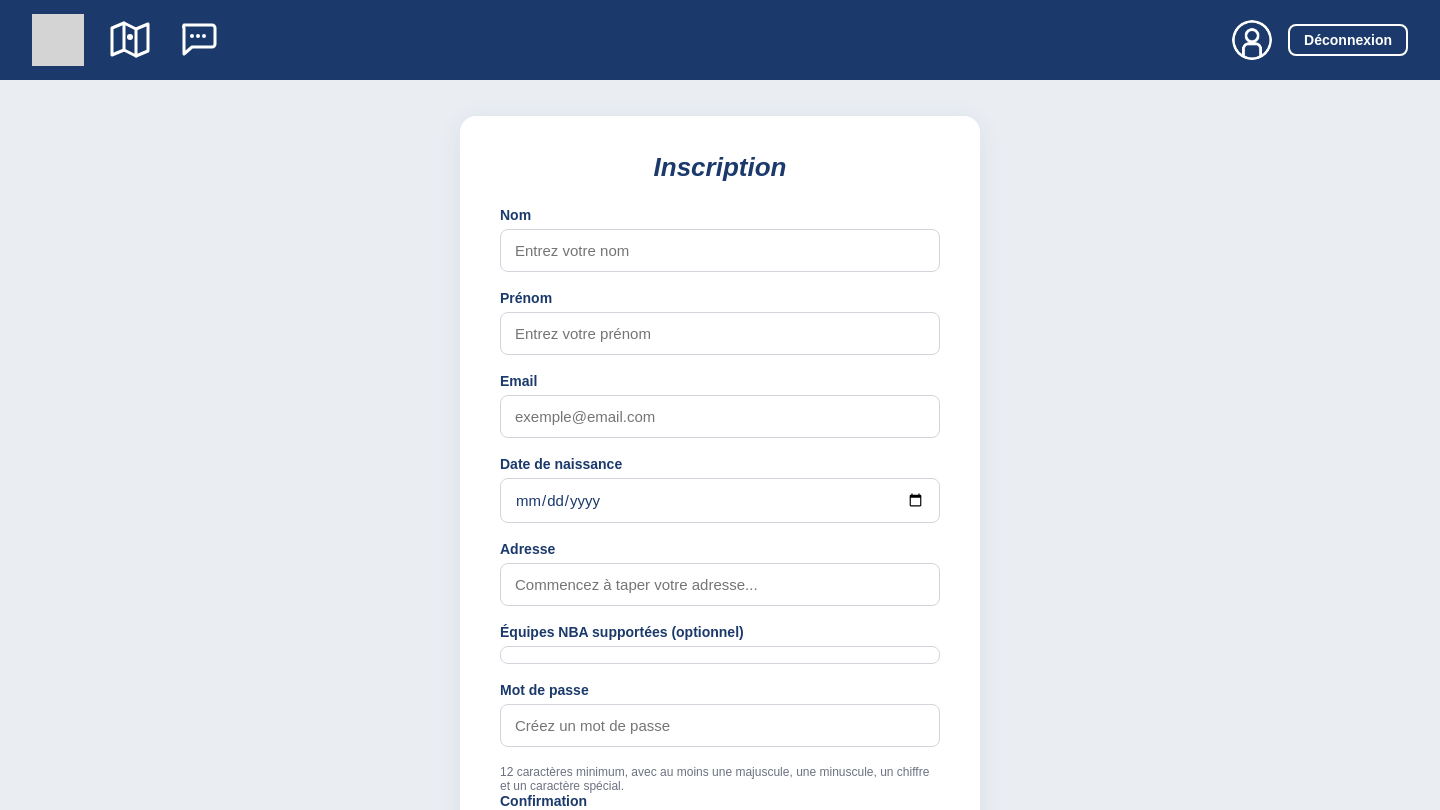
Test: RegisterPage › affiche une erreur si le mot de passe est trop faible
Type "Dupont" into the field with placeholder "Entrez votre nom" at (720, 250), box x1=500 y1=229 x2=940 y2=272
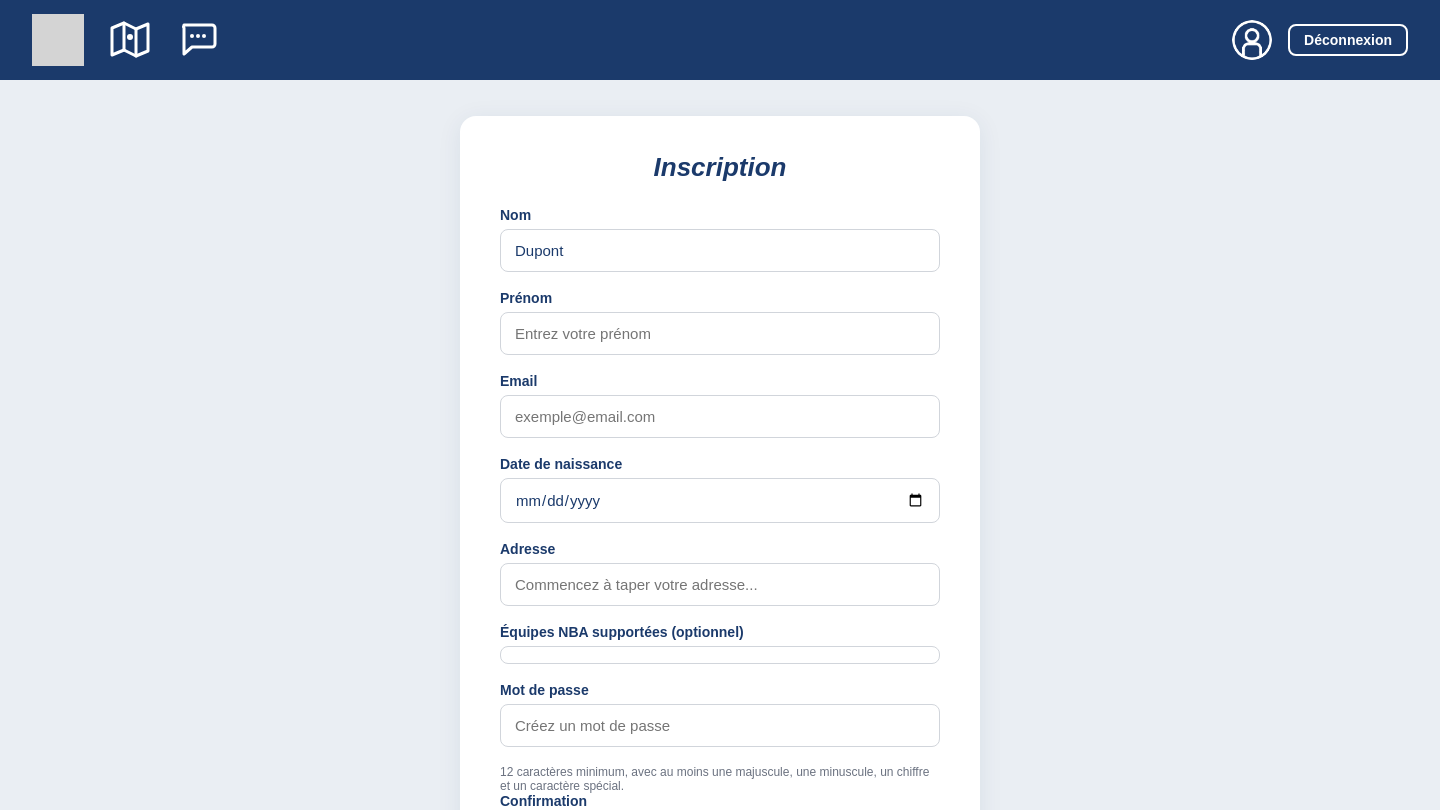
Type "Jean" into the field with placeholder "Entrez votre prénom" at (720, 334), box x1=500 y1=312 x2=940 y2=355
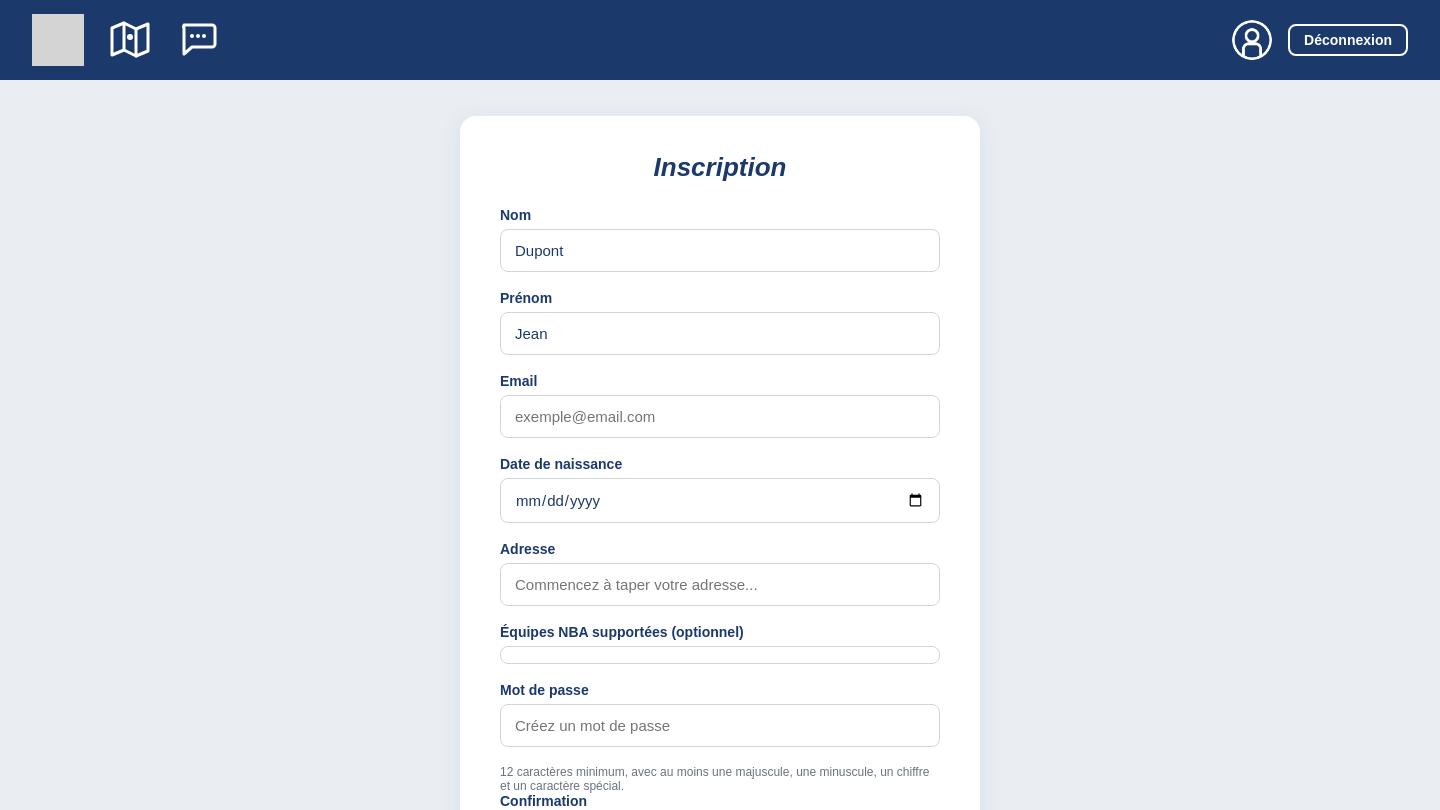
Type "a@b.com" into the field with placeholder "exemple@email.com" at (720, 416), box x1=500 y1=395 x2=940 y2=438
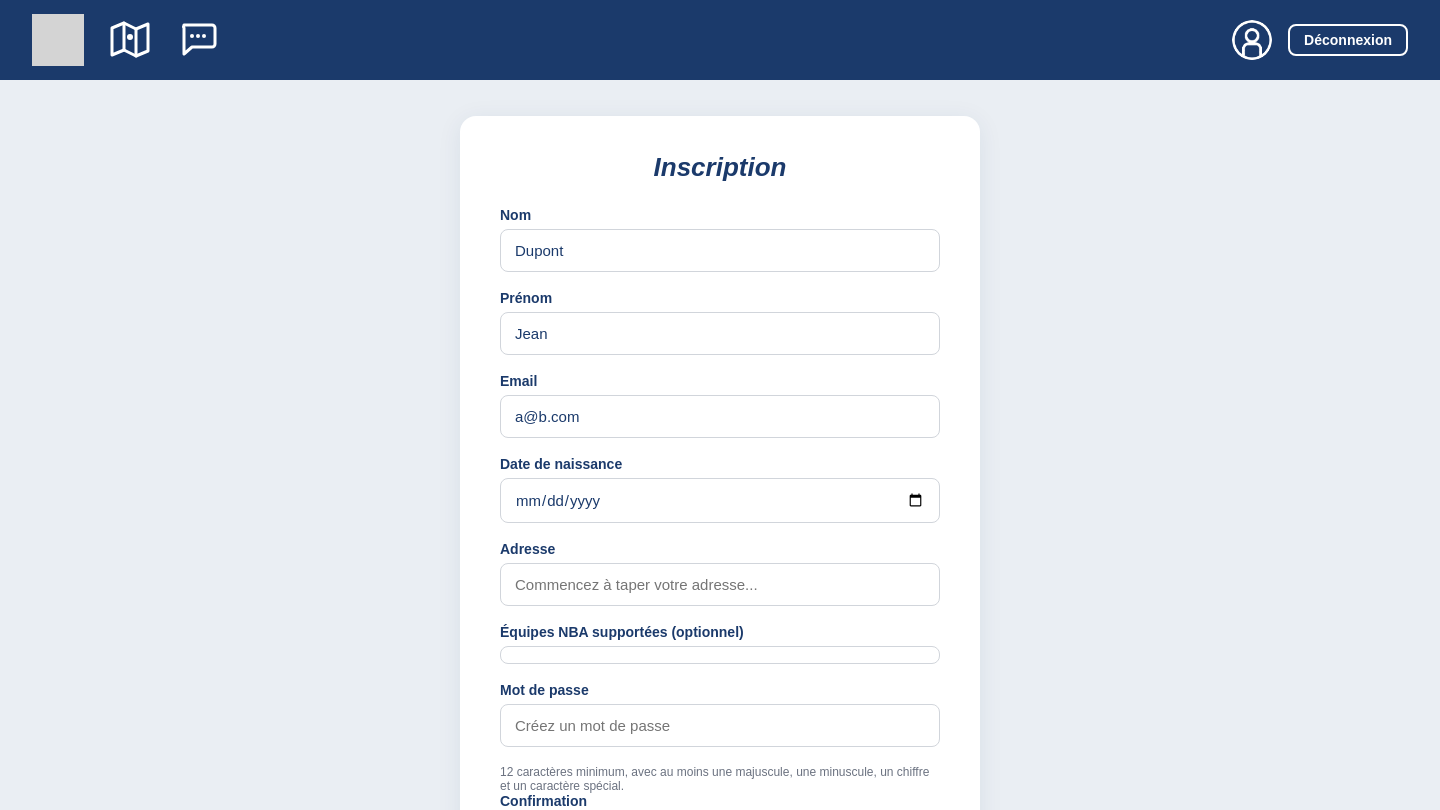
Type "weak" into the password field with placeholder "Créez un mot de passe" at (720, 726), box x1=500 y1=704 x2=940 y2=747
(page scrolled)
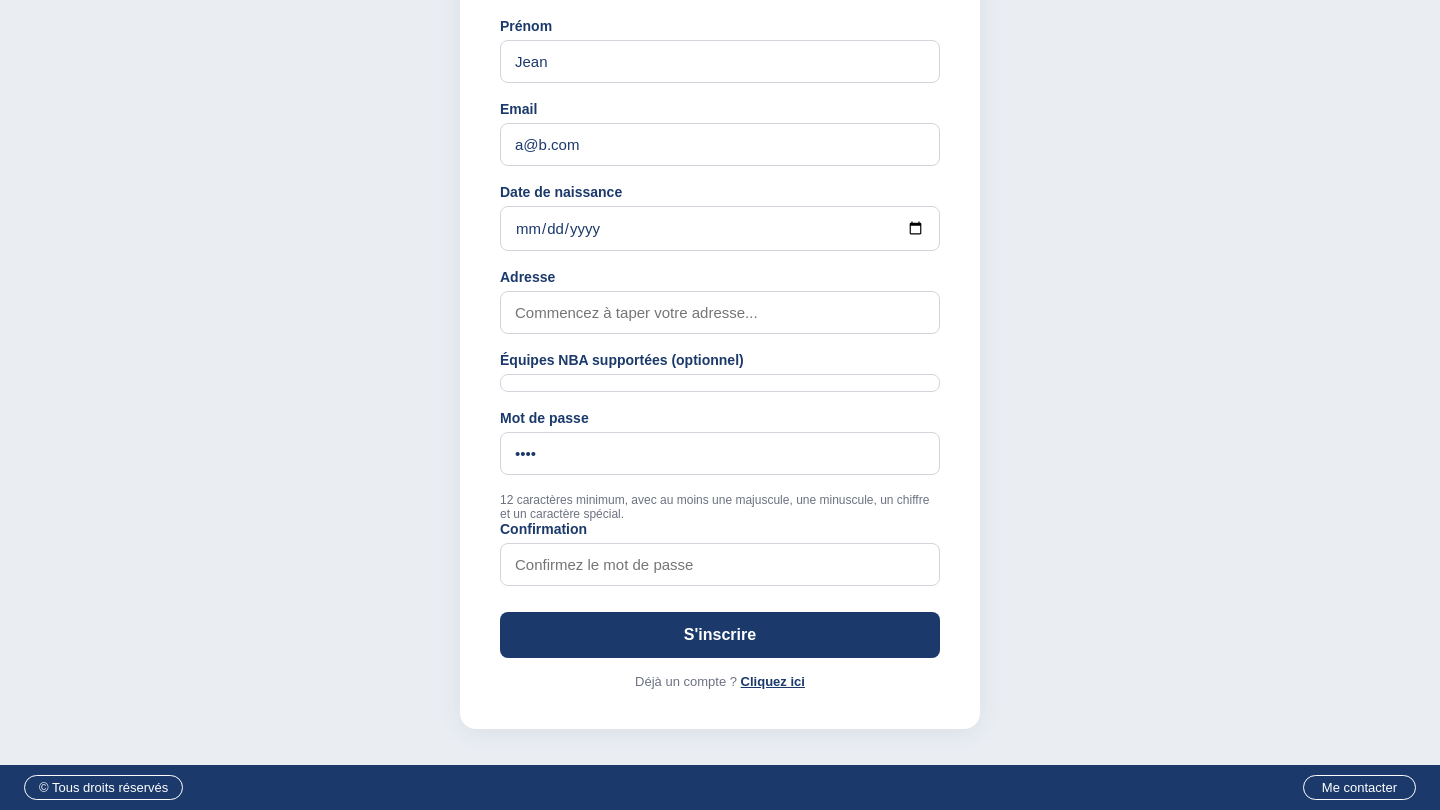
Type "weak" into the password field with placeholder "Confirmez le mot de passe" at (720, 564), box x1=500 y1=543 x2=940 y2=586
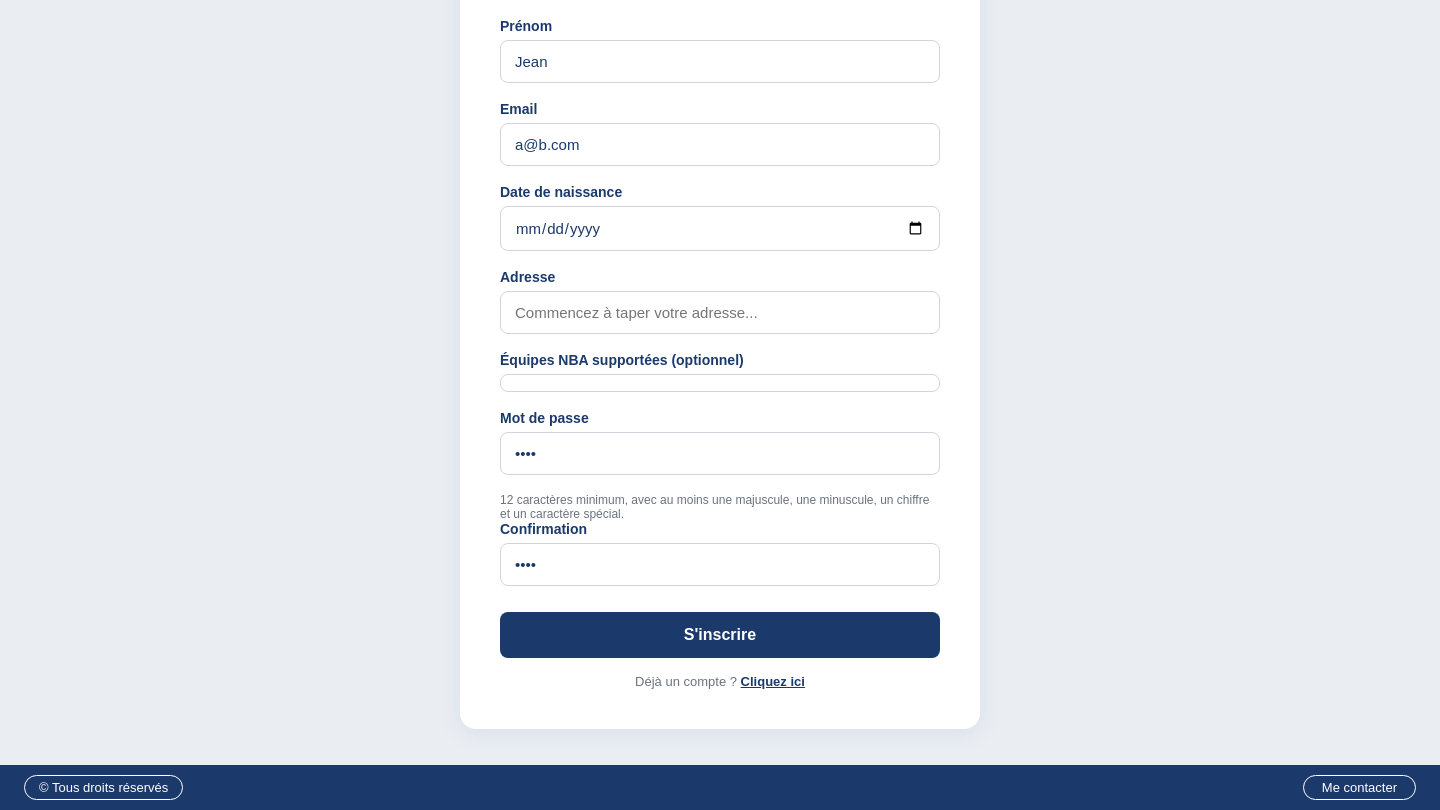
Click the button "S'inscrire" at (720, 635), box x1=500 y1=612 x2=940 y2=658
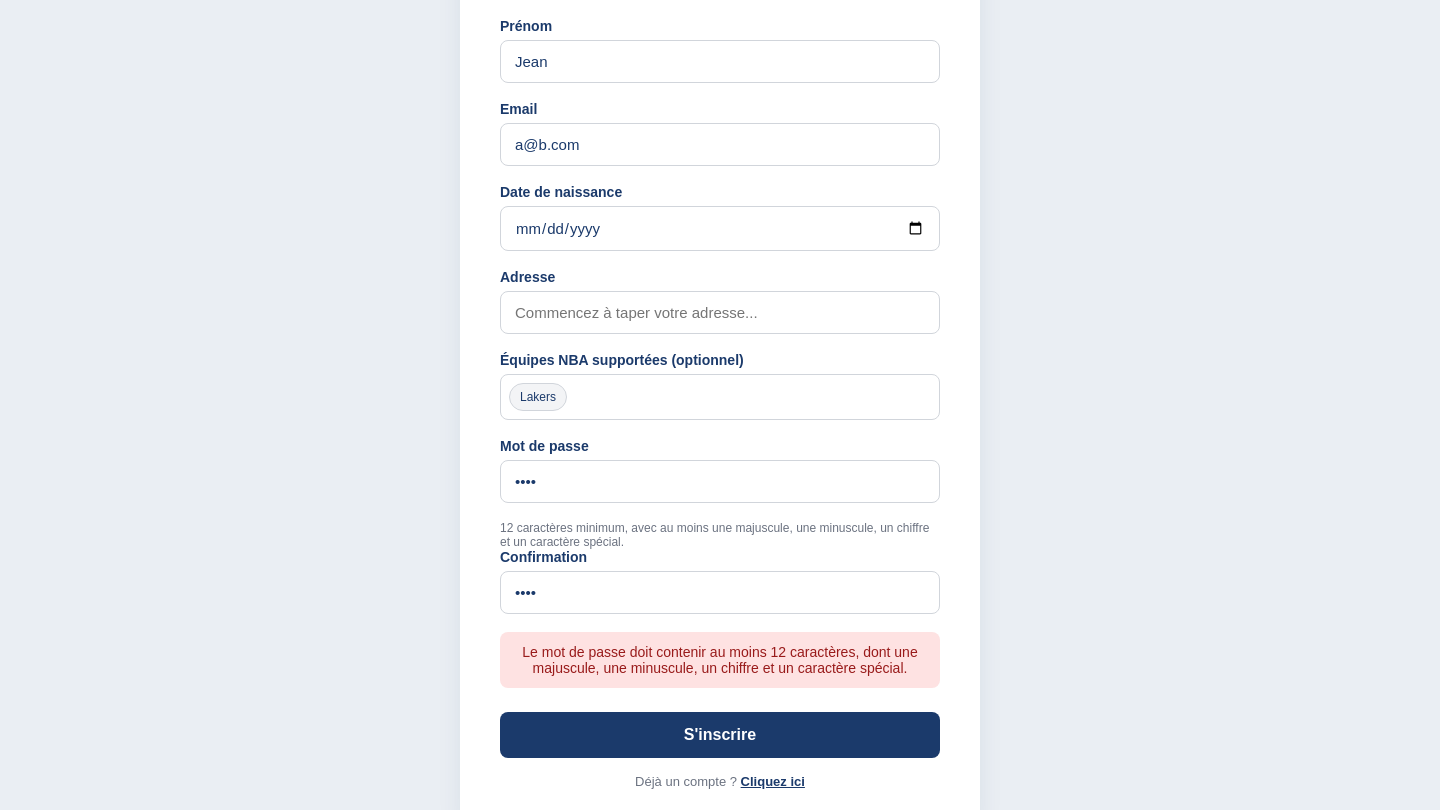
Check: the text "doit contenir au moins 12 caractères" is shown, box x1=522 y1=644 x2=918 y2=676
